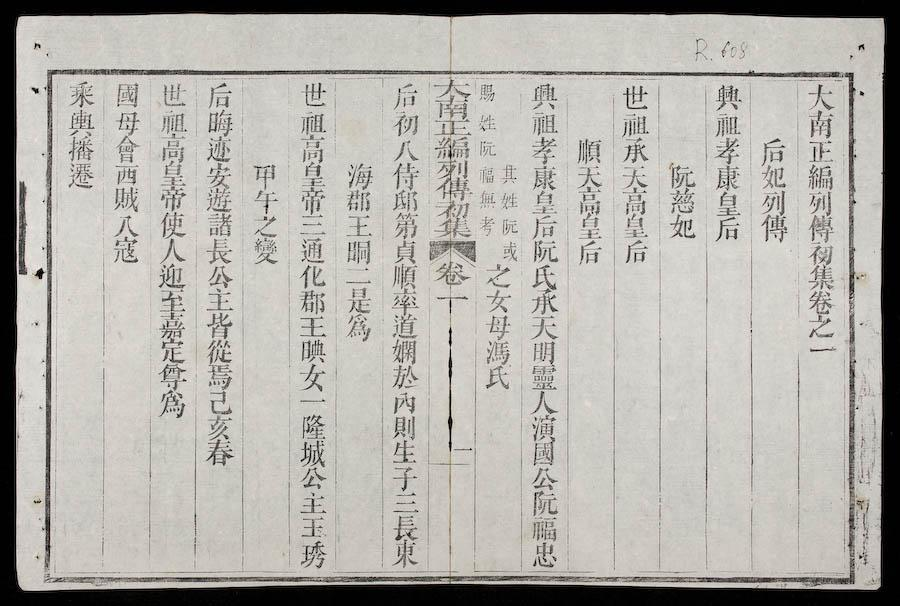c: (433, 260, 471, 287), (712, 82, 744, 113), (295, 364, 329, 393), (528, 82, 560, 112), (804, 82, 837, 111), (296, 540, 329, 569), (433, 137, 472, 161), (65, 79, 97, 108), (157, 81, 190, 109), (202, 439, 236, 466), (112, 80, 143, 109), (156, 390, 187, 419), (204, 81, 235, 110), (389, 540, 421, 568), (665, 161, 697, 189), (203, 237, 235, 265), (758, 215, 790, 243), (573, 137, 605, 165), (528, 137, 560, 165), (805, 314, 838, 341), (64, 162, 97, 189), (110, 186, 143, 213), (527, 315, 561, 341), (433, 218, 473, 240), (758, 136, 788, 165), (390, 82, 420, 111), (620, 83, 651, 111), (111, 135, 142, 163), (574, 188, 605, 216), (805, 111, 836, 139), (343, 286, 374, 314), (157, 211, 188, 239), (389, 513, 421, 540), (528, 364, 560, 391), (203, 311, 235, 338), (666, 214, 698, 241), (297, 440, 329, 467), (528, 542, 561, 568), (432, 79, 472, 100), (620, 188, 650, 216), (250, 238, 280, 266), (343, 315, 373, 343), (299, 81, 329, 109), (344, 162, 374, 190), (65, 108, 96, 135), (529, 490, 560, 517), (528, 415, 559, 442), (805, 164, 836, 191), (297, 136, 328, 163), (110, 237, 141, 264), (805, 215, 836, 242), (389, 313, 420, 340), (204, 110, 235, 137), (203, 136, 234, 163), (712, 165, 743, 192), (296, 237, 327, 264), (390, 163, 421, 190), (156, 290, 188, 316), (156, 363, 188, 389), (65, 135, 97, 161), (203, 363, 235, 389), (666, 189, 698, 215), (619, 164, 651, 190), (619, 112, 651, 138), (203, 338, 235, 364), (203, 212, 235, 238), (202, 187, 234, 213), (296, 289, 328, 315), (155, 314, 188, 339), (298, 412, 327, 440), (158, 135, 188, 162), (391, 213, 421, 240), (157, 162, 188, 188), (389, 465, 420, 491), (157, 110, 188, 136), (712, 138, 743, 164), (483, 365, 514, 391), (483, 339, 514, 365), (389, 364, 420, 390), (483, 263, 514, 289), (528, 390, 560, 415), (528, 290, 560, 315), (528, 112, 560, 137), (156, 339, 189, 363), (343, 239, 373, 265), (575, 215, 605, 241), (204, 389, 234, 415), (806, 265, 836, 291), (297, 164, 327, 190), (621, 239, 651, 265), (391, 112, 421, 138), (435, 179, 472, 200), (203, 415, 234, 440), (529, 517, 560, 542), (298, 490, 329, 515), (619, 138, 650, 163), (157, 238, 188, 263), (712, 113, 743, 138), (297, 111, 328, 136), (156, 264, 187, 289), (297, 338, 328, 363), (435, 292, 470, 314), (297, 515, 329, 539), (203, 288, 235, 312), (433, 100, 471, 120), (713, 192, 742, 218), (390, 414, 419, 440), (575, 241, 604, 267), (389, 440, 419, 465), (758, 190, 788, 215), (758, 165, 788, 190), (529, 191, 559, 216), (483, 314, 513, 339), (203, 163, 233, 188), (389, 339, 419, 364), (297, 189, 327, 214), (529, 265, 559, 290), (297, 264, 327, 289), (483, 289, 513, 314), (389, 265, 419, 290), (805, 290, 836, 314), (157, 187, 188, 211), (343, 214, 374, 238), (529, 240, 560, 264), (296, 315, 328, 338), (430, 120, 473, 137), (251, 162, 279, 188), (251, 189, 280, 214), (113, 110, 142, 135), (713, 218, 742, 243), (530, 166, 559, 191), (529, 466, 559, 490), (805, 191, 835, 215), (620, 215, 650, 239), (805, 139, 835, 163), (574, 165, 604, 189), (529, 216, 559, 240), (389, 290, 420, 313), (435, 200, 472, 219), (434, 160, 471, 179), (529, 441, 557, 466), (112, 214, 141, 238), (390, 391, 419, 415), (111, 163, 141, 186), (343, 190, 373, 213), (528, 341, 558, 364), (298, 467, 328, 490), (297, 214, 327, 237), (390, 492, 421, 514), (805, 341, 839, 361), (392, 139, 420, 163), (391, 240, 419, 264), (205, 265, 234, 288), (251, 215, 280, 238), (806, 243, 836, 265), (391, 190, 420, 212), (343, 267, 373, 285), (498, 240, 521, 263), (499, 163, 520, 187), (477, 112, 499, 134), (477, 82, 498, 105), (296, 395, 328, 409), (499, 191, 520, 212), (477, 139, 498, 160), (477, 189, 497, 211), (477, 165, 497, 186), (499, 217, 520, 237), (478, 214, 496, 237)
